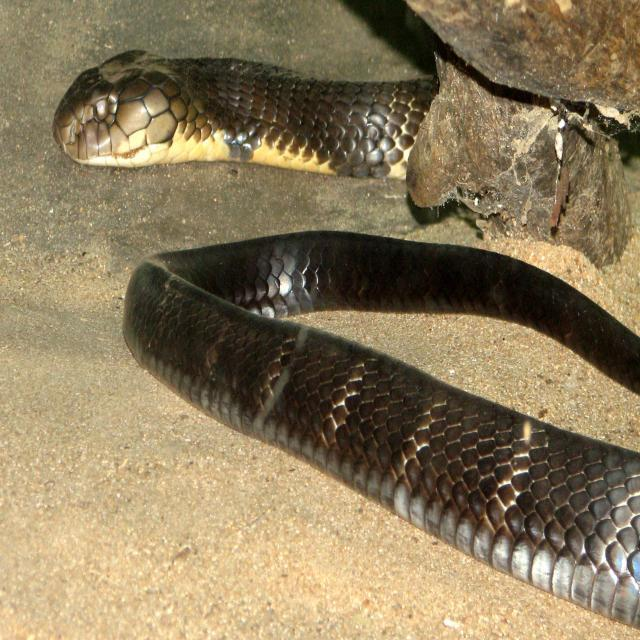Snake: (51, 47, 639, 630)
